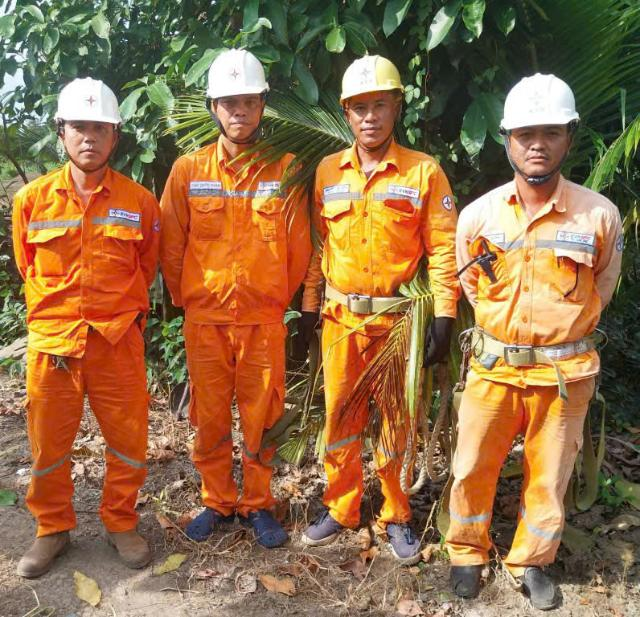gloves: (421, 315, 456, 372), (283, 304, 327, 349)
harness: (473, 308, 600, 389), (329, 278, 424, 330)
helmet: (179, 36, 287, 112), (502, 75, 580, 137), (51, 71, 131, 131), (342, 52, 409, 109)
shoes: (95, 510, 162, 573), (10, 521, 79, 582), (369, 515, 427, 572), (507, 558, 561, 615), (245, 489, 290, 551), (295, 500, 348, 551), (436, 556, 491, 601), (185, 493, 231, 542)
